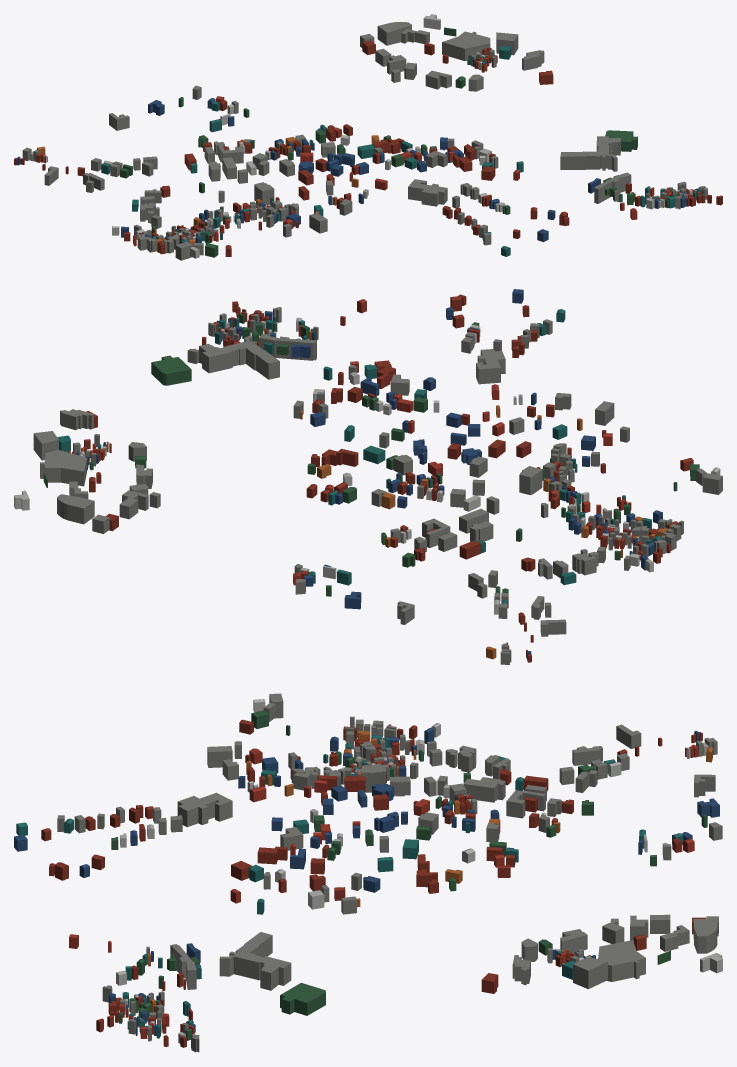
File: near-15-27362-14869.d4db01cc.glb
3 renders of one model, top to bottom at view 1: azimuth 30°, elevation 25°; view 2: azimuth 150°, elevation 25°; view 3: azimuth 270°, elevation 25°, orthographic. The views are drawn at different scales.
Size of the model in its own units: 1181 by 159 by 1141.
